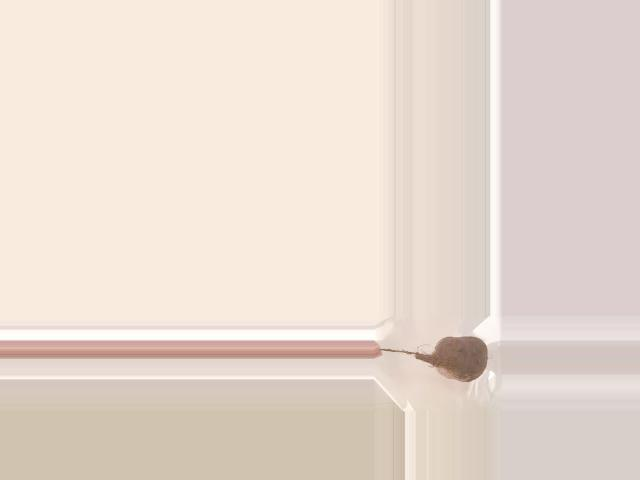beet: (378, 336, 487, 382)
